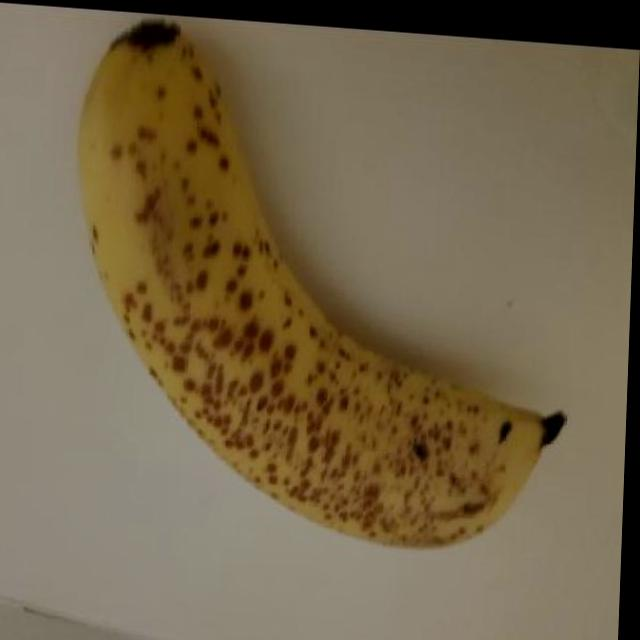banana: (64, 7, 582, 560)
